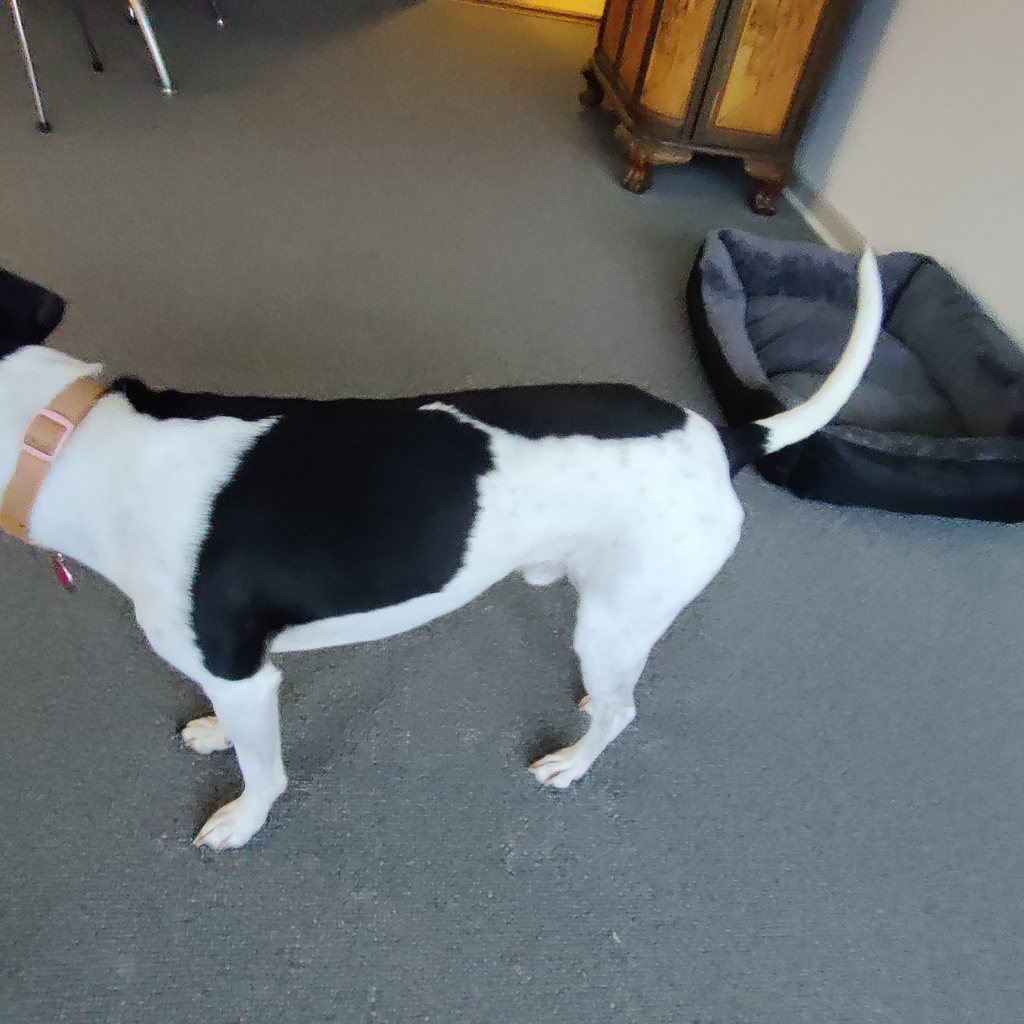Dog: (0, 228, 907, 866)
